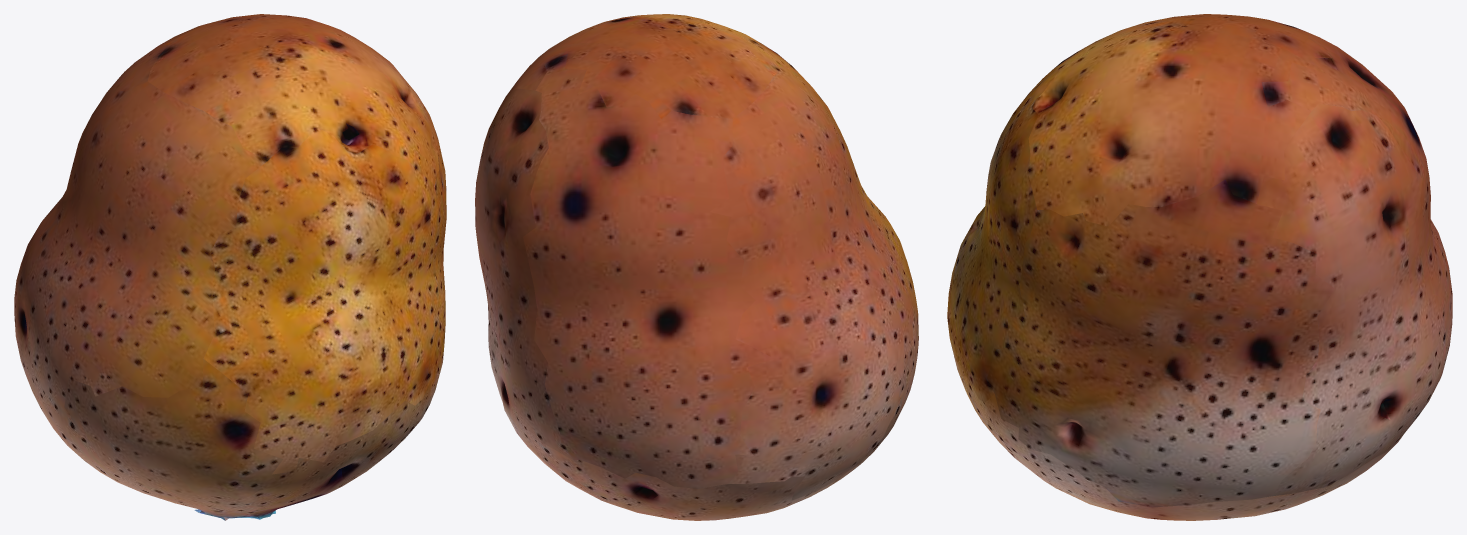
Rendered from potato.glb.
3 renders of one model, left to right at view 1: azimuth 30°, elevation 25°; view 2: azimuth 150°, elevation 25°; view 3: azimuth 270°, elevation 25°, orthographic. The views are drawn at different scales.
Visible parts, largest first — view 1: potato; view 2: potato; view 3: potato.
Boxes of the visible parts, x1,y1,x2,y2 form: potato: (14,14,446,520); potato: (475,14,918,520); potato: (947,14,1452,520).
Size of the model in its own units: 0.8928 by 1 by 0.9413.
1 material, 1 textured.
